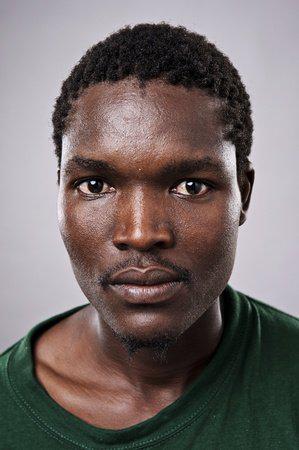Sober: (67, 82, 230, 329)
